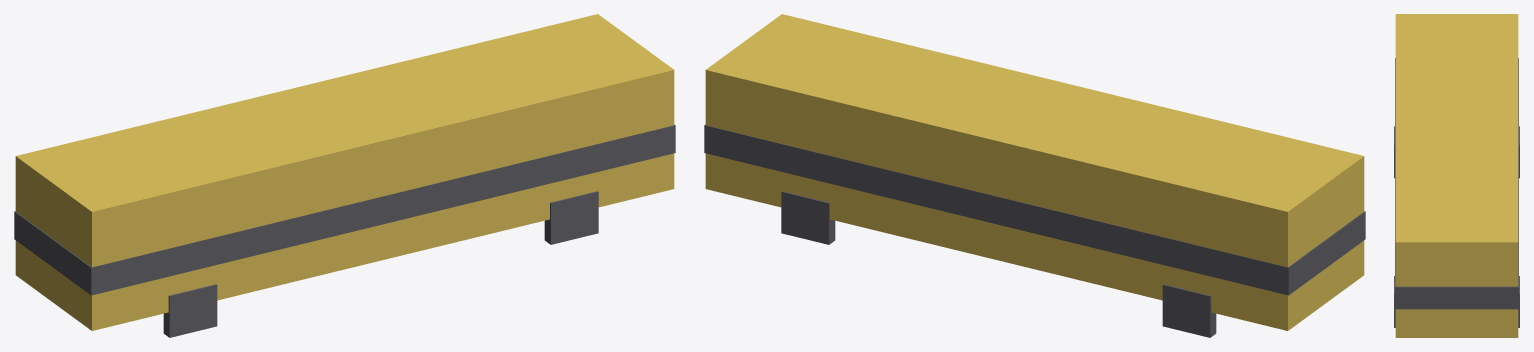
The model's file is bus.glb.
The picture shows the model from 3 angles, left to right: view 1: azimuth 30°, elevation 25°; view 2: azimuth 150°, elevation 25°; view 3: azimuth 270°, elevation 25°; orthographic projection. The views are drawn at different scales.
Parts seen in each view (by area): view 1: bus_body, bus_stripe, bus_wheel_0, bus_wheel_1; view 2: bus_body, bus_stripe, bus_wheel_3, bus_wheel_2; view 3: bus_body, bus_stripe.
Part boxes in pixels (box(x1,y1,x2,y2)): bus_body: box(15, 14, 674, 330); bus_stripe: box(14, 124, 675, 295); bus_wheel_0: box(163, 284, 217, 337); bus_wheel_1: box(544, 191, 598, 244); bus_body: box(705, 14, 1364, 330); bus_stripe: box(704, 124, 1365, 295); bus_wheel_3: box(1162, 284, 1216, 337); bus_wheel_2: box(781, 191, 835, 244); bus_body: box(1395, 14, 1518, 337); bus_stripe: box(1395, 58, 1518, 309).
Size of the model in its own units: 11.04 by 2.6 by 2.56.
